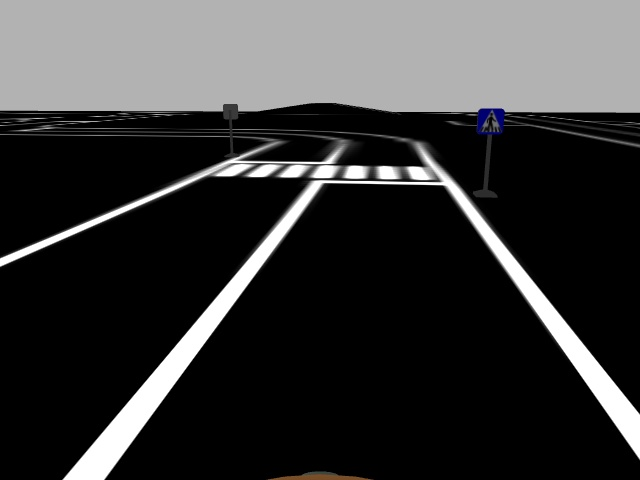crosswalk: (475, 105, 507, 138)
